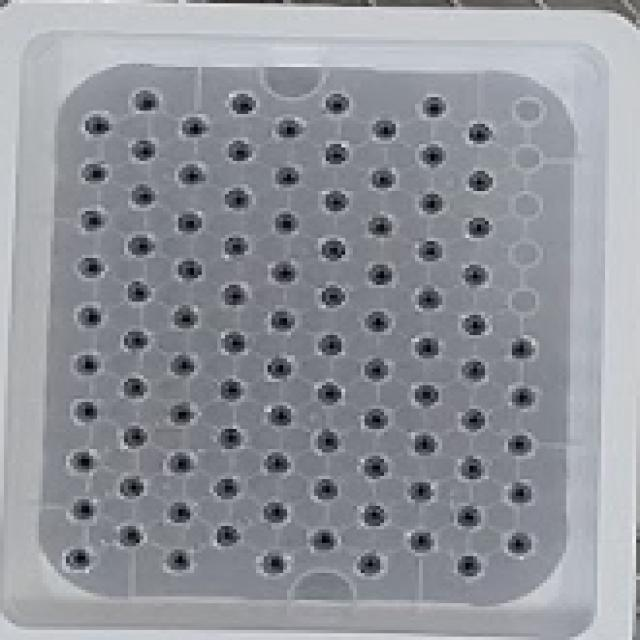vial: (504, 530, 540, 558), (71, 398, 105, 426), (72, 304, 108, 330), (171, 211, 206, 237), (226, 90, 258, 118), (214, 426, 247, 453), (359, 454, 390, 482), (457, 453, 488, 481), (322, 89, 354, 116), (73, 352, 106, 378), (67, 450, 100, 476), (466, 120, 496, 148), (221, 233, 252, 260), (119, 374, 150, 401), (132, 87, 164, 113), (462, 214, 494, 240), (262, 355, 294, 381), (121, 425, 153, 451), (128, 137, 161, 162), (179, 115, 209, 142), (267, 309, 297, 336), (365, 260, 396, 286), (358, 503, 389, 529), (370, 118, 400, 144), (322, 140, 352, 166), (411, 335, 441, 361), (220, 282, 250, 308), (167, 450, 197, 476), (164, 547, 194, 573), (79, 160, 110, 185), (509, 337, 540, 362), (262, 452, 293, 477), (414, 144, 446, 168), (224, 140, 256, 164), (320, 188, 352, 212), (127, 186, 159, 210), (314, 382, 346, 406), (83, 112, 111, 139), (313, 429, 342, 455), (454, 505, 483, 531), (308, 526, 337, 552), (118, 523, 147, 549), (319, 285, 349, 310), (363, 309, 393, 334), (173, 258, 203, 283), (171, 305, 201, 330), (216, 377, 246, 402), (457, 408, 488, 432), (314, 333, 345, 357), (211, 524, 242, 548), (410, 435, 442, 458), (371, 166, 399, 192), (267, 403, 295, 429), (320, 238, 349, 263), (415, 285, 444, 310), (365, 215, 395, 239), (75, 255, 105, 279), (409, 530, 439, 554), (262, 500, 292, 524), (459, 264, 490, 287), (273, 164, 300, 190), (127, 232, 153, 259), (460, 360, 488, 385), (212, 478, 240, 503), (72, 498, 100, 523), (421, 94, 450, 118), (416, 239, 445, 263), (223, 188, 252, 212), (362, 356, 391, 380), (164, 501, 193, 525), (261, 552, 290, 576), (177, 165, 207, 188), (124, 328, 151, 353), (274, 118, 302, 142), (270, 261, 298, 285), (77, 209, 105, 233), (509, 481, 537, 505), (65, 549, 93, 573), (168, 354, 197, 377), (311, 479, 340, 502), (508, 433, 534, 458), (418, 192, 445, 216), (461, 313, 488, 337), (413, 383, 440, 407), (219, 331, 246, 355), (118, 477, 146, 500), (356, 553, 385, 575), (169, 401, 194, 426), (364, 406, 390, 430), (408, 480, 434, 504), (456, 553, 482, 577), (466, 170, 493, 193), (272, 211, 299, 234), (511, 385, 537, 408), (125, 281, 151, 304)
